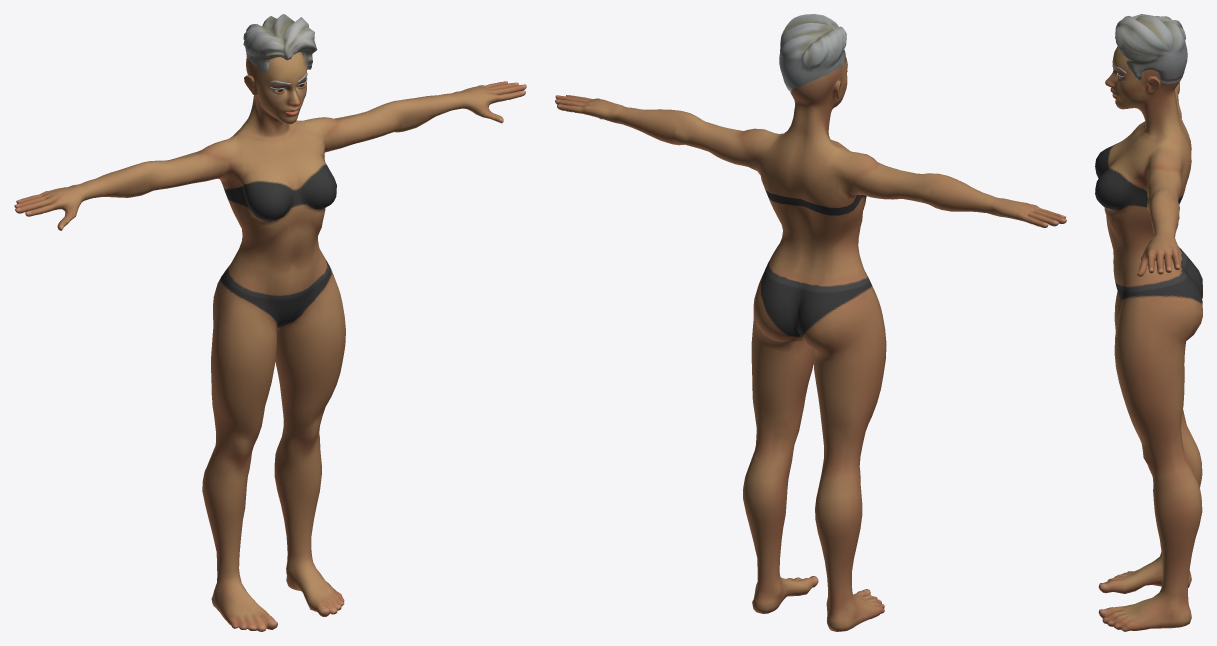
Rendered from character-female-d.glb.
The picture shows the model from 3 angles, left to right: view 1: azimuth 30°, elevation 25°; view 2: azimuth 150°, elevation 25°; view 3: azimuth 270°, elevation 25°; orthographic projection.
Parts seen in each view (by area): view 1: crowd-body; view 2: crowd-body; view 3: crowd-body.
Boxes of the visible parts, x1,y1,x2,y2 form: crowd-body: [14, 14, 526, 631]; crowd-body: [555, 14, 1066, 631]; crowd-body: [1095, 14, 1202, 631].
Bounding box in the file's own units: 1.52 × 1.68 × 0.2763.
4 materials, 4 textured.
